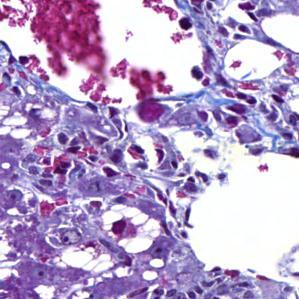ballooning: (99, 202, 163, 256), (54, 239, 116, 277)
